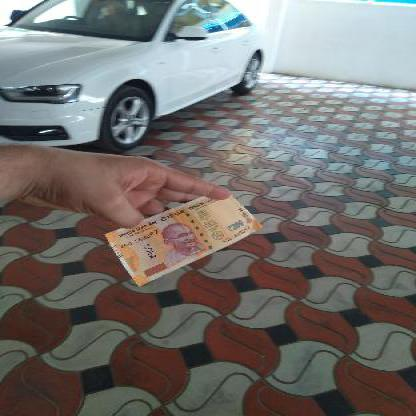New200Front: (101, 189, 256, 278)
